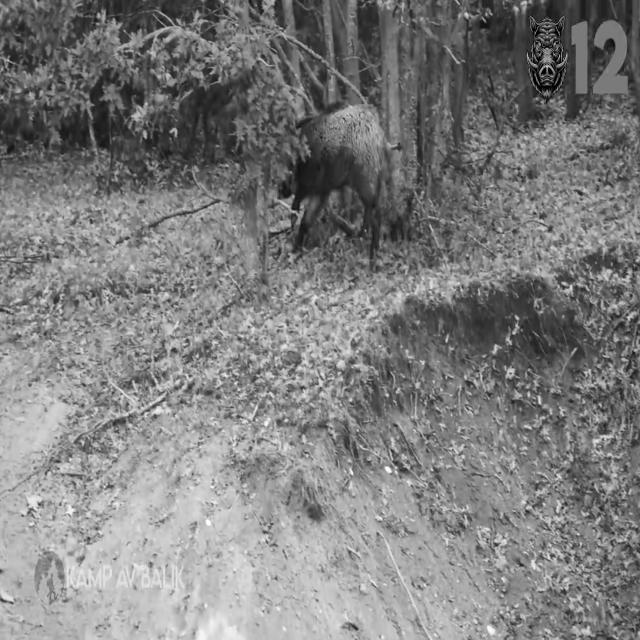boar: (292, 104, 390, 264)
